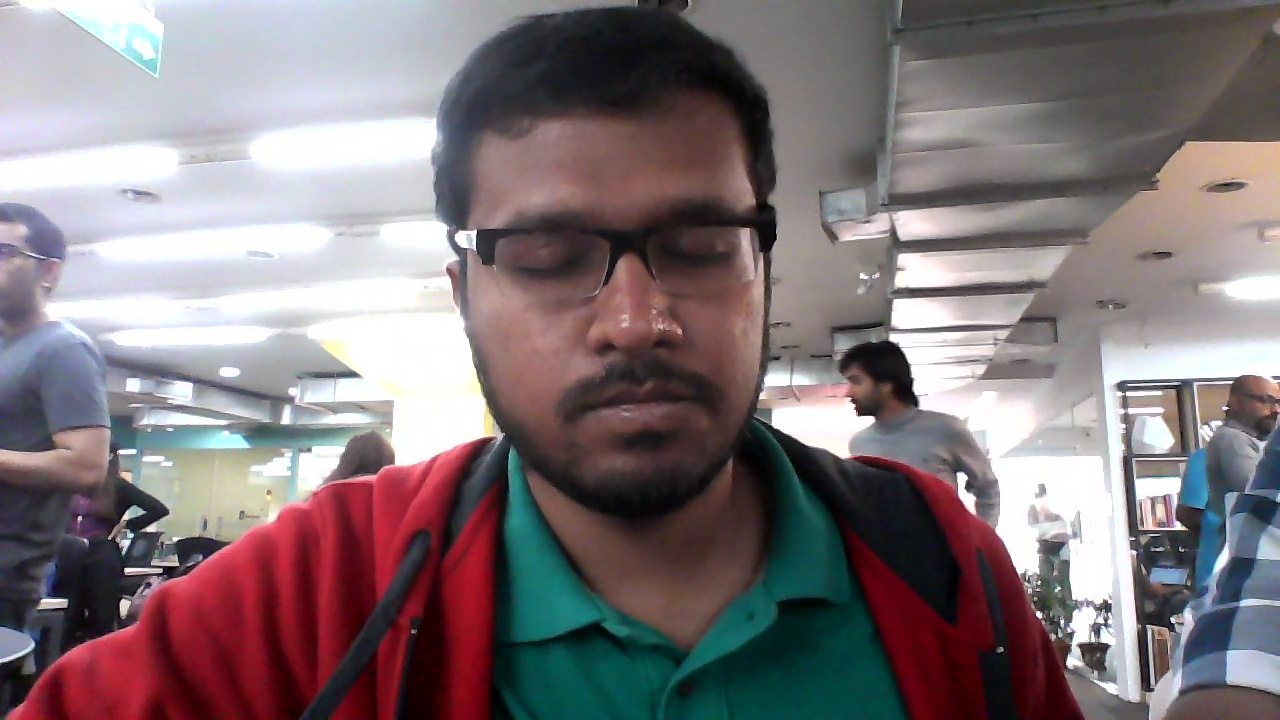closed: (424, 9, 795, 523)
